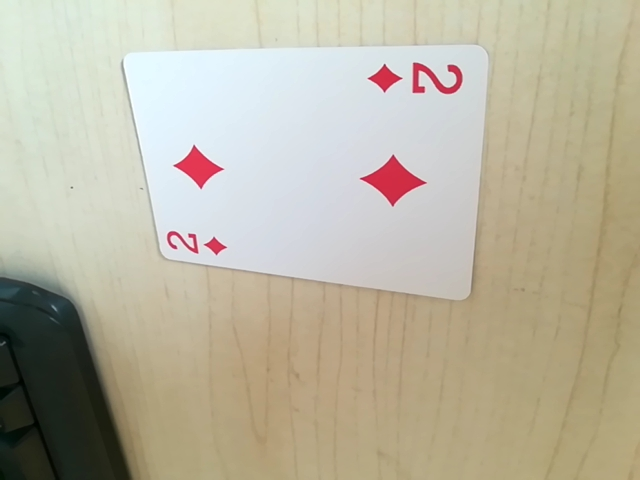fk 2: (365, 56, 468, 103), (161, 222, 232, 263)
